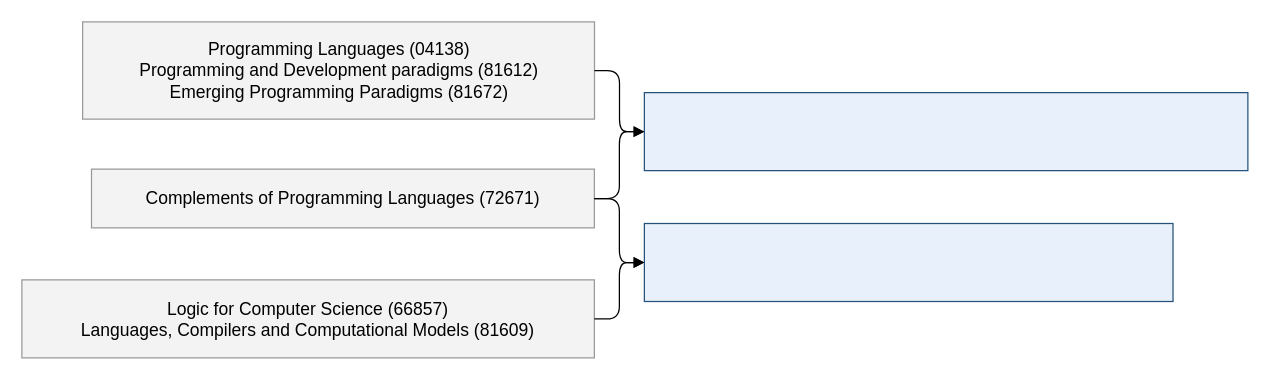
This 1270x380 diagram has some shape labels left out. The centre of each missing label's shape, as x and y in pixels:
"Programming-Language Analysis and Compiler Tools 3 ECTS" goes at (x=908, y=262).
"Programming-Language Syntax and Semantics Fundamentals 3 ECTS" goes at (x=945, y=131).
